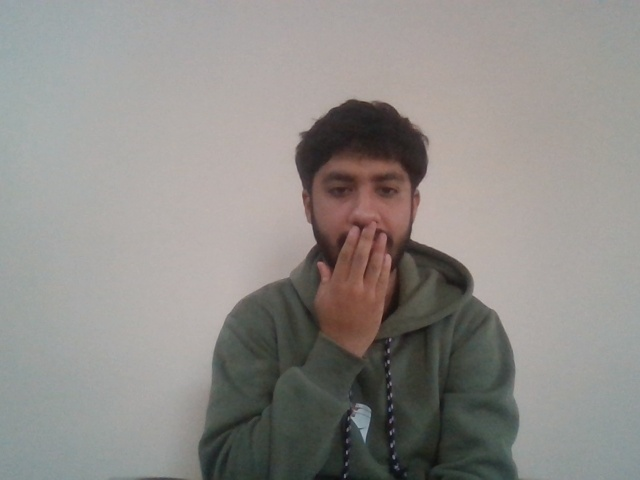Thanks: (300, 220, 475, 327)
